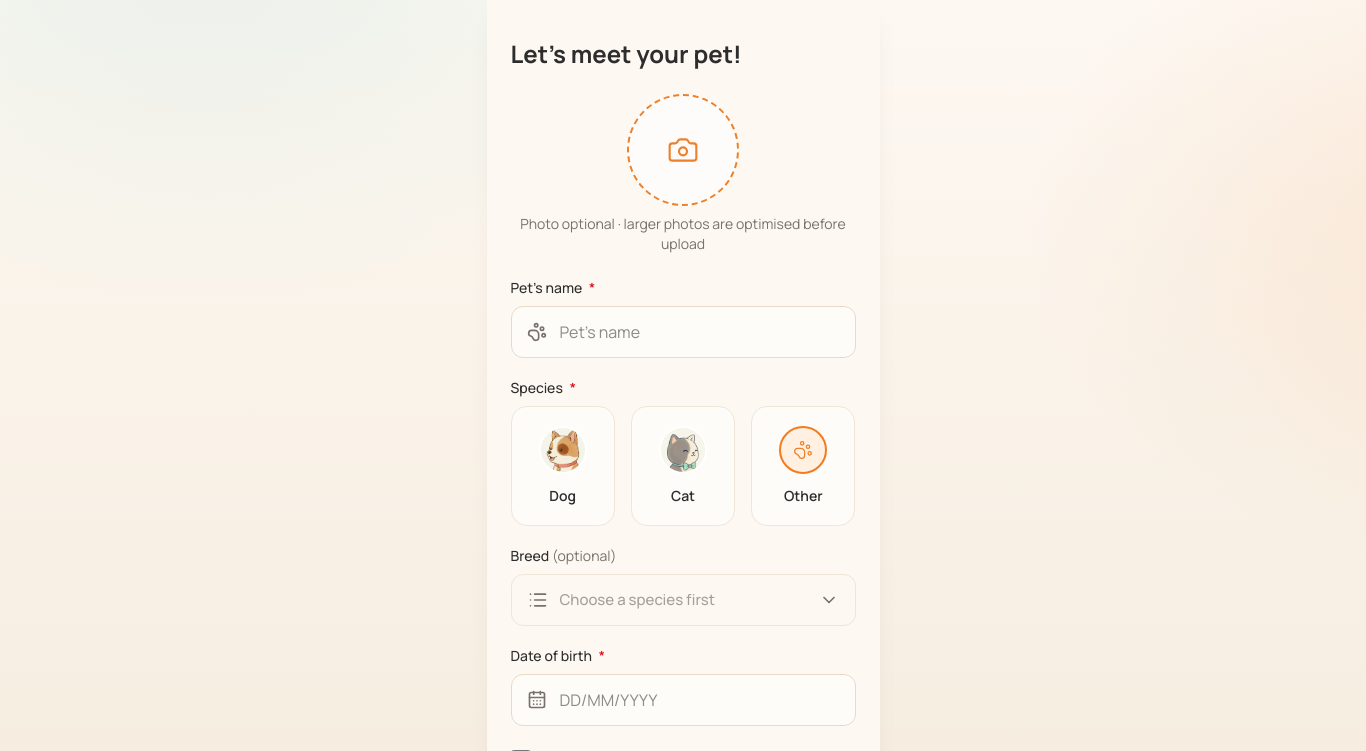
Test: FirstPetForm › shows an inline error for a future birth date
Type "Max" into the field labelled "Pet's name *" at (683, 332), box [510,306,856,358]
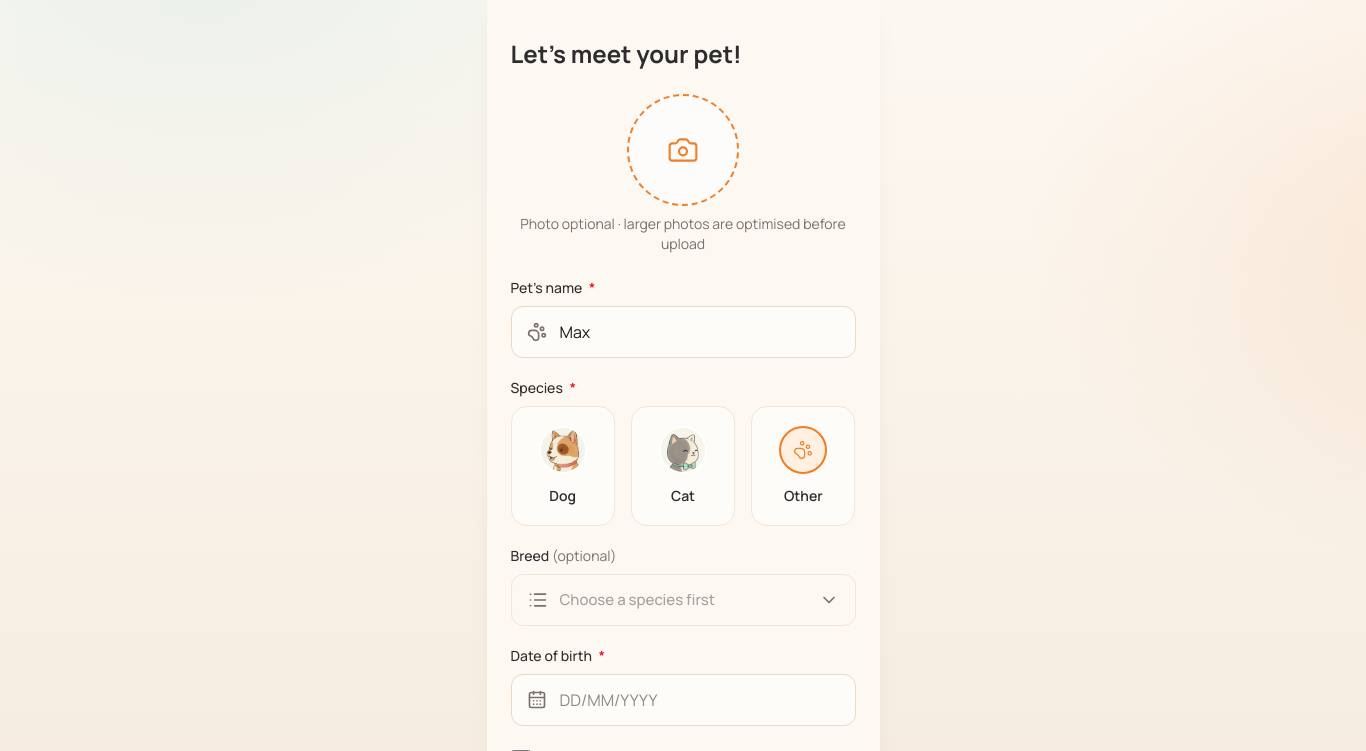
Click the button "Dog" at (563, 466), box [510,406,615,526]
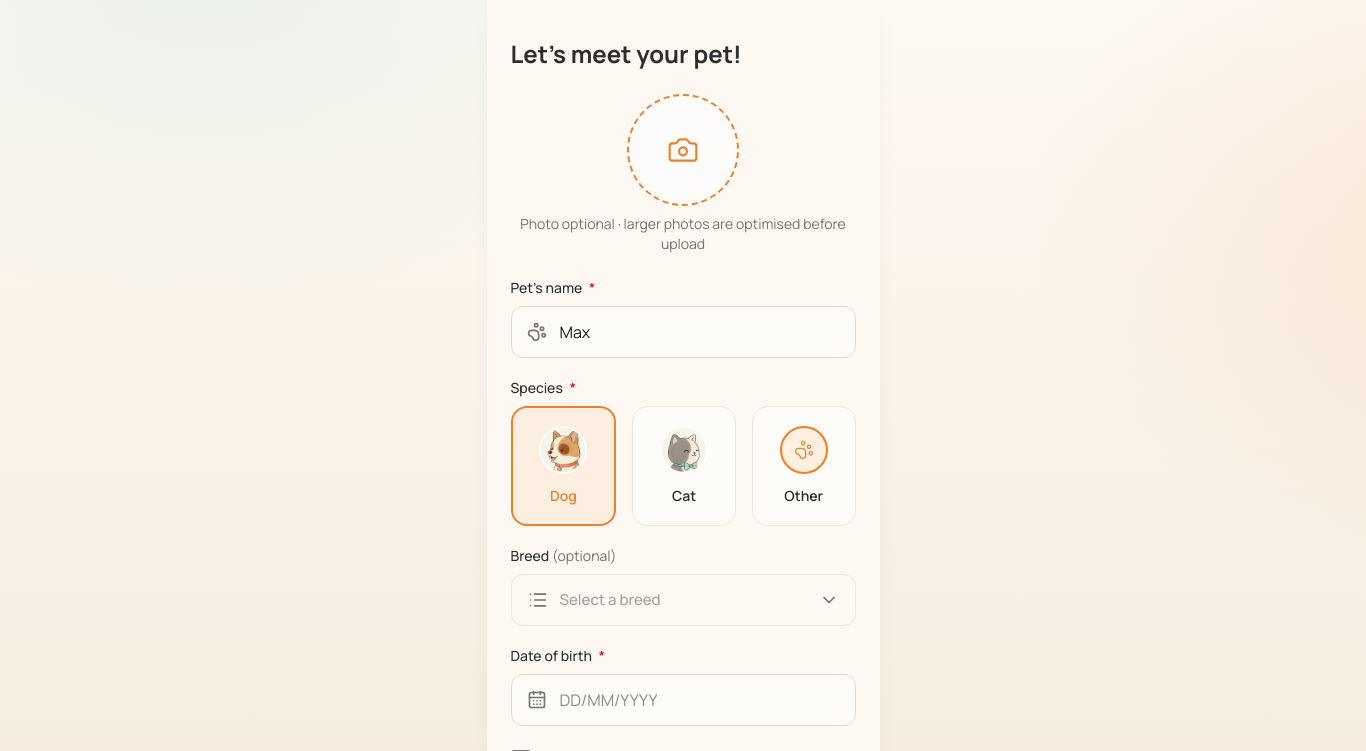
Type "01/01/2999" into the field labelled "Date of birth *" at (683, 700), box [510,674,856,726]
(page scrolled)
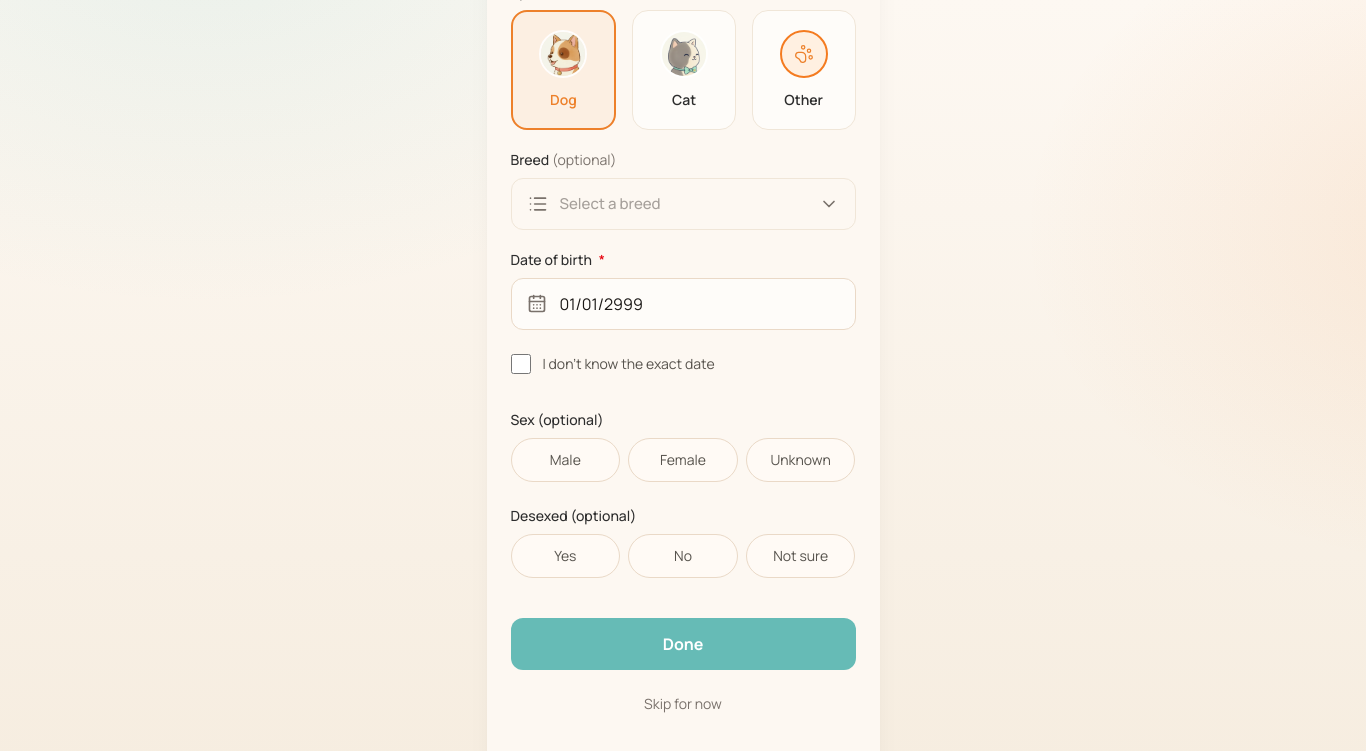
Click the button "Done" at (683, 644), box [510,618,856,670]
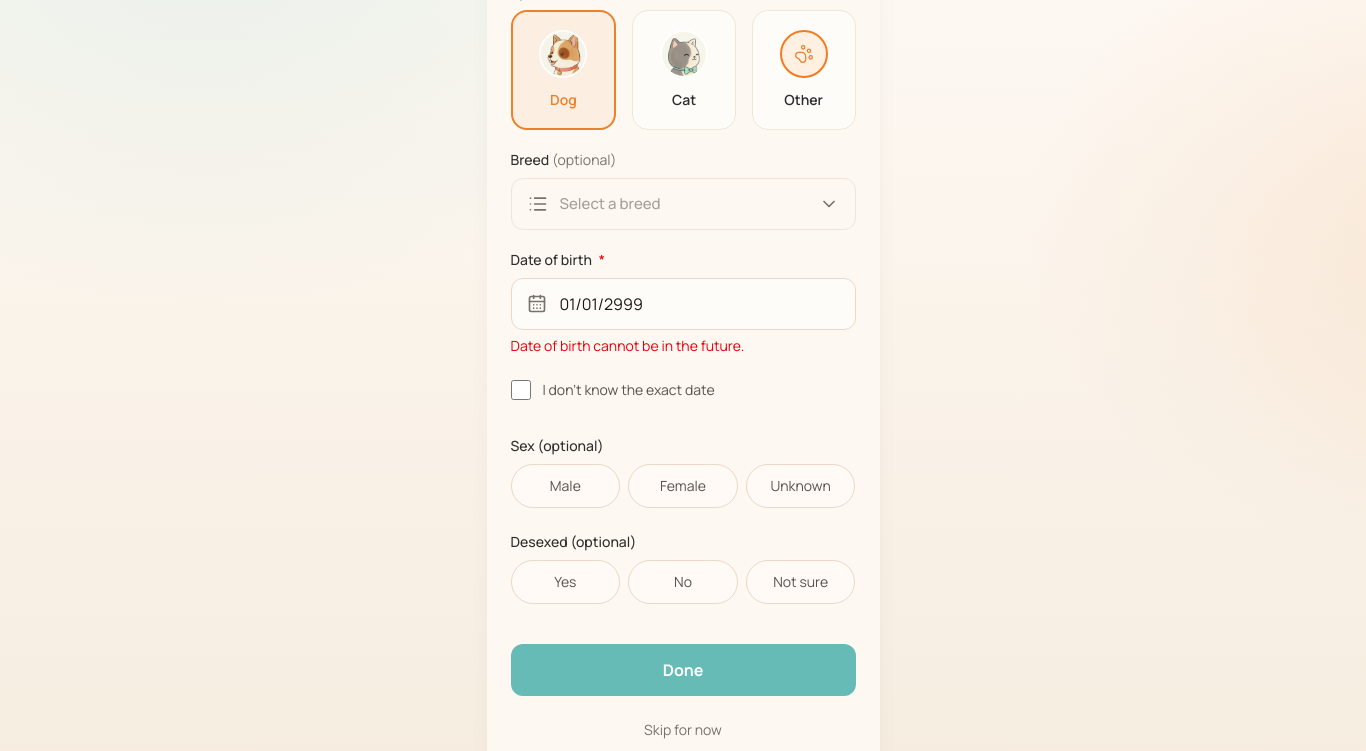
Result: the text "Date of birth cannot be in the future." is shown at [510,336,744,355]
